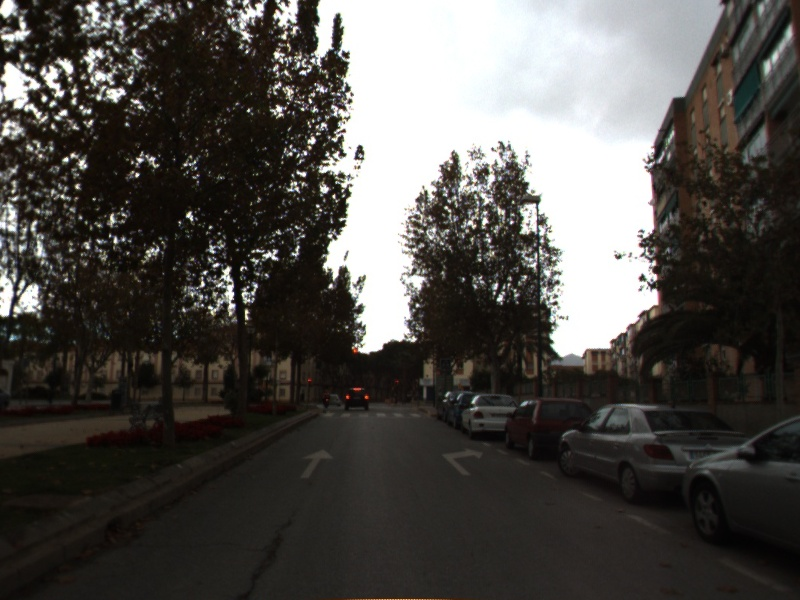RIGHT: (439, 445, 485, 477)
STRAIGHT: (298, 448, 337, 480)
